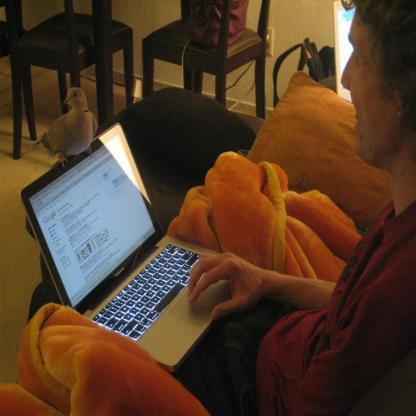board: (21, 124, 233, 370)
